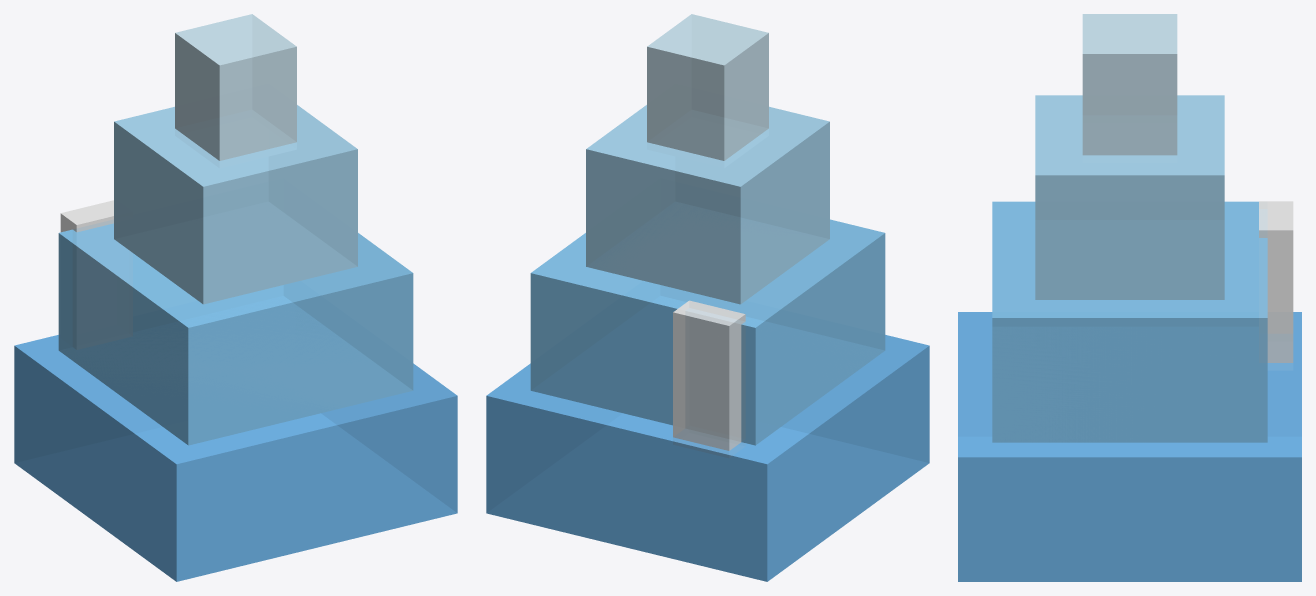
The model's file is WaterBody.fbx.
The picture shows the model from 3 angles, left to right: view 1: azimuth 30°, elevation 25°; view 2: azimuth 150°, elevation 25°; view 3: azimuth 270°, elevation 25°; orthographic projection. The views are drawn at different scales.
Visible parts, largest first — view 1: Drop_Base, Drop_Low, Drop_Mid, Drop_Top, Drop_Shine; view 2: Drop_Base, Drop_Low, Drop_Mid, Drop_Top, Drop_Shine; view 3: Drop_Base, Drop_Low, Drop_Mid, Drop_Top, Drop_Shine.
Part boxes in pixels (x1,y1,x2,y2): Drop_Base: [14, 335, 457, 581]; Drop_Low: [58, 220, 413, 445]; Drop_Mid: [114, 105, 357, 304]; Drop_Top: [175, 14, 296, 160]; Drop_Shine: [60, 200, 113, 232]; Drop_Base: [486, 335, 929, 581]; Drop_Low: [530, 219, 885, 445]; Drop_Mid: [586, 105, 829, 304]; Drop_Top: [647, 14, 768, 160]; Drop_Shine: [673, 300, 745, 450]; Drop_Base: [958, 312, 1301, 581]; Drop_Low: [992, 201, 1267, 442]; Drop_Mid: [1035, 95, 1224, 299]; Drop_Top: [1082, 14, 1177, 155]; Drop_Shine: [1259, 201, 1293, 362].
Bounding box in the file's own units: 56 × 85.4 × 56.
